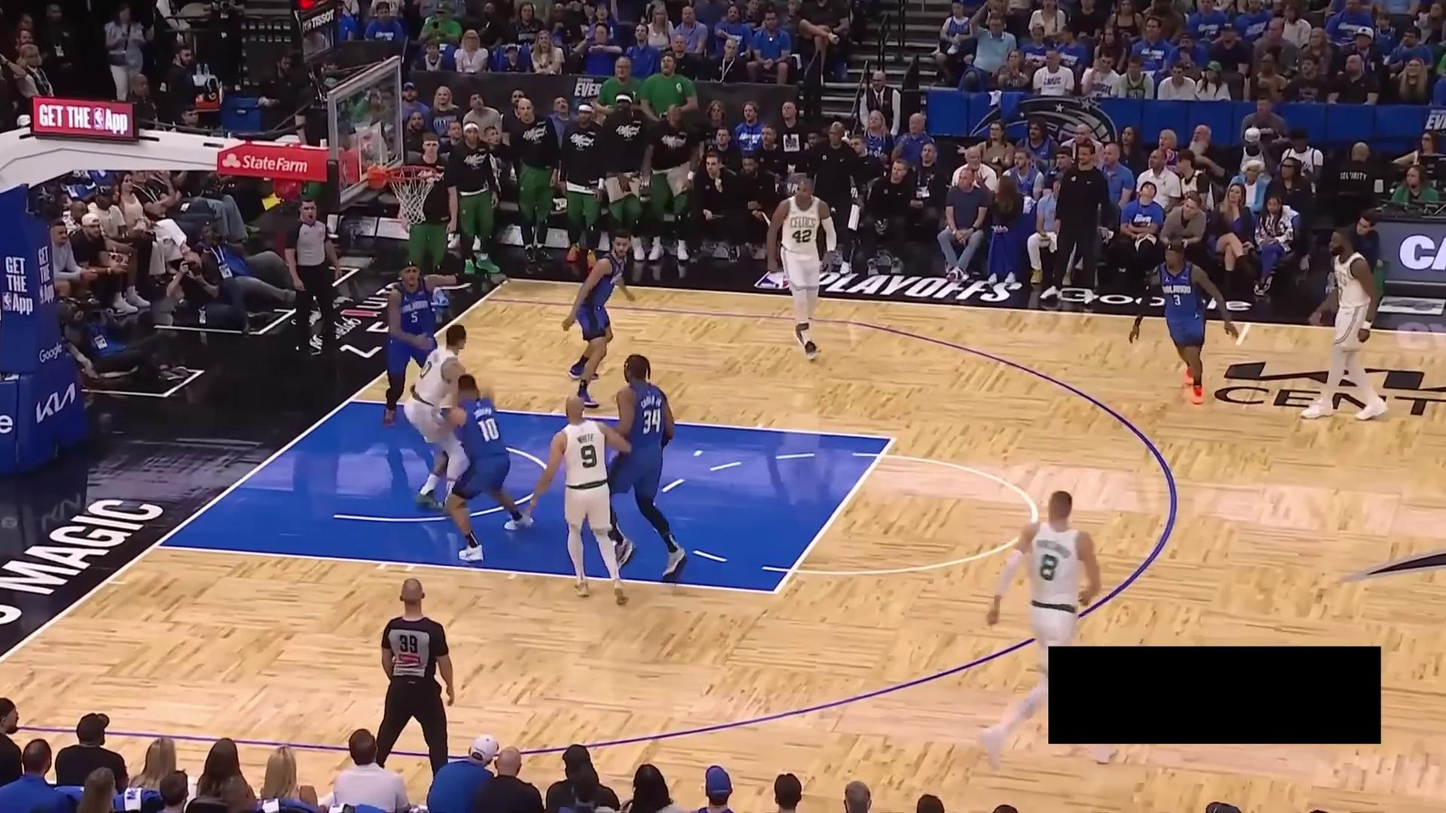number: (640, 406, 664, 436), (475, 417, 500, 444), (1039, 551, 1057, 581), (581, 444, 599, 469), (791, 229, 812, 244), (420, 359, 433, 379), (1172, 294, 1182, 306), (410, 311, 419, 323)
player: (975, 487, 1119, 770), (381, 256, 513, 427), (524, 392, 628, 608), (1125, 234, 1243, 402), (604, 352, 690, 579), (1296, 223, 1391, 423), (434, 370, 532, 562), (558, 224, 645, 412), (763, 174, 846, 363)
player-in-possession: (392, 322, 484, 509)
referee: (374, 573, 460, 773), (273, 191, 348, 360)
rim: (381, 164, 441, 185)
